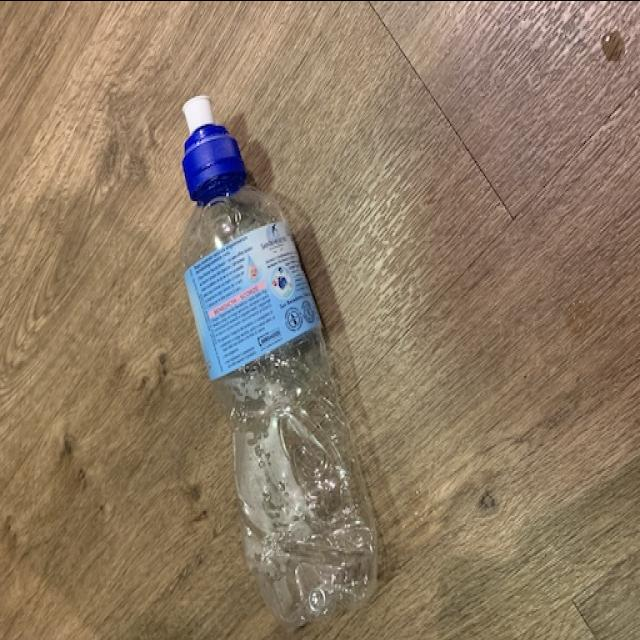PET: (172, 88, 392, 640)
